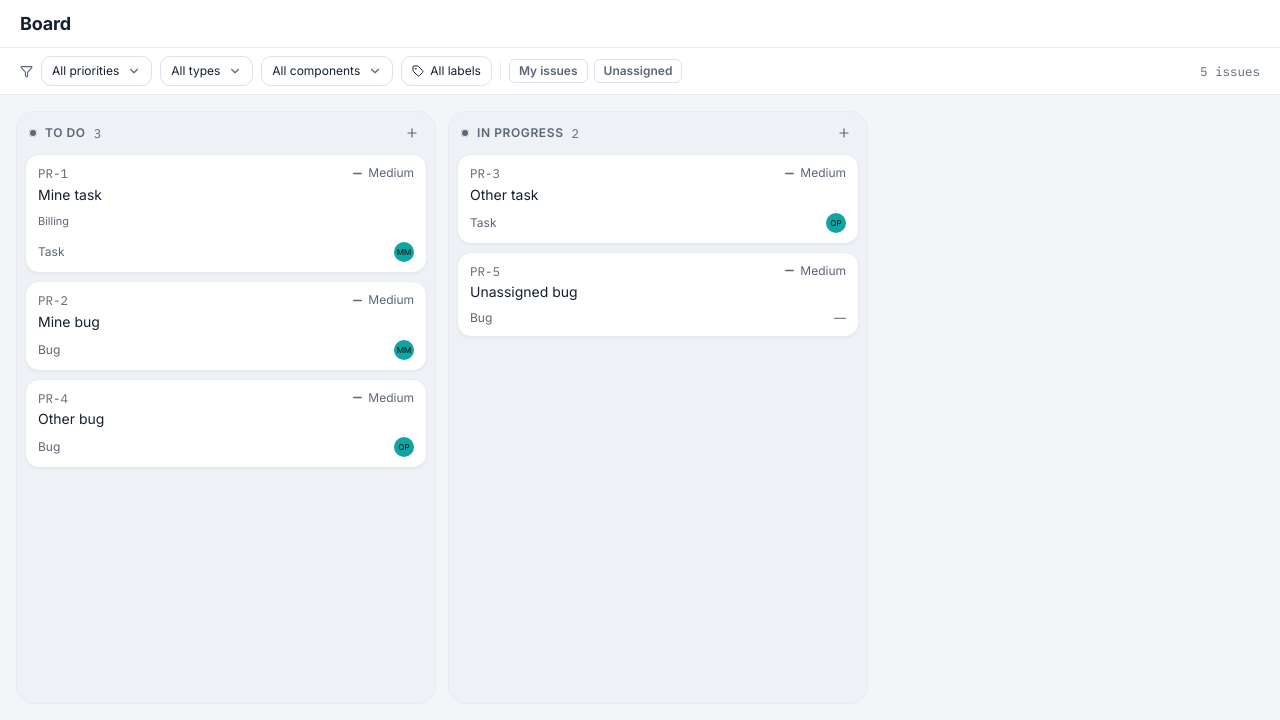
it: BoardPage quick filters (HD-43) › offers every project issue type in the type select
This screenshot has width=1280, height=720.
Expected: the button "My issues" is shown, [509, 59, 588, 83]
Expected: the text "In Progress" is shown, [477, 125, 564, 141]
What coordinates should you click on to do the following:
click the button with aria-label "Filter by type"
I would click on:
 (207, 71)
Its box is [160, 56, 253, 86].
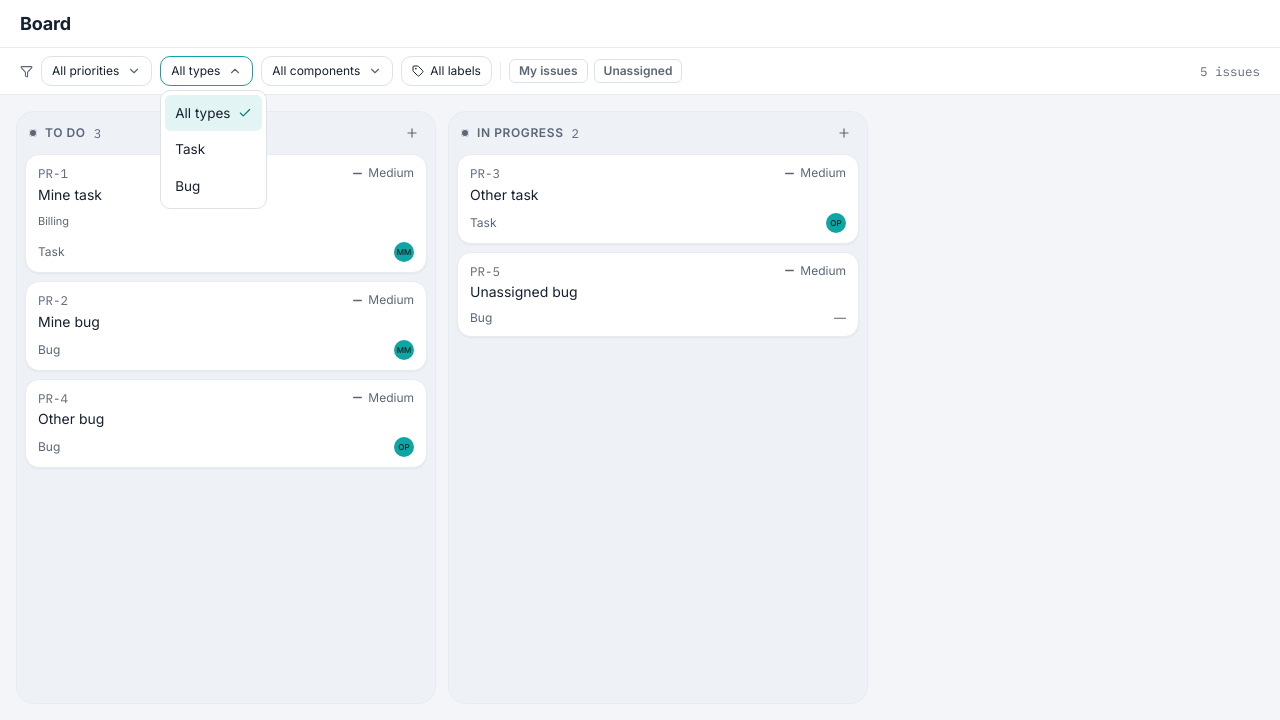
Expected: the options read "All types", "Task", "Bug", in this order, [165, 95, 262, 131]; [175, 141, 205, 157]; [175, 178, 200, 194]
